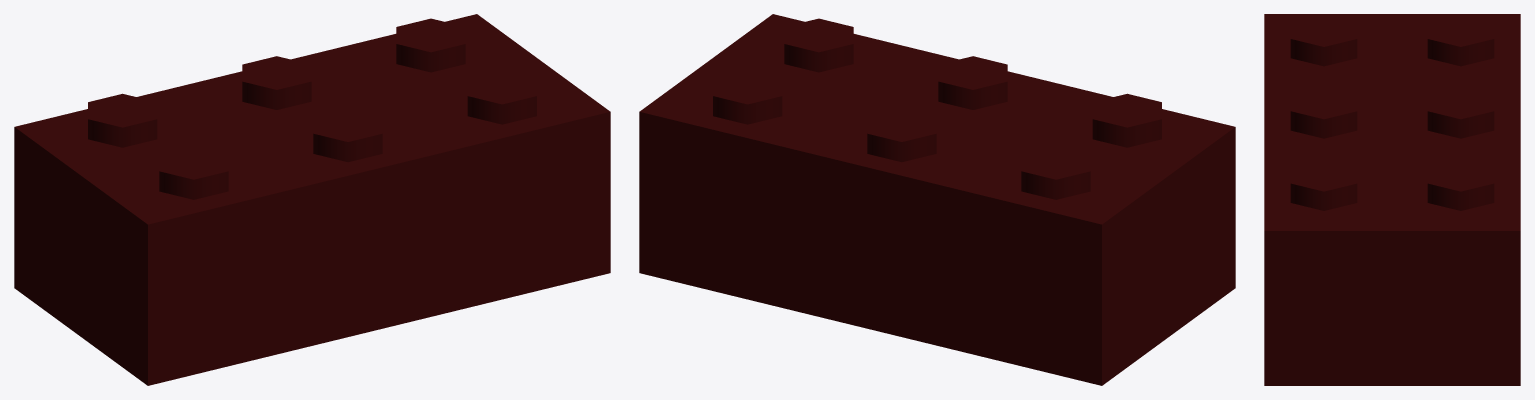
File: LowPolyBrick.fbx
The picture shows the model from 3 angles, left to right: view 1: azimuth 30°, elevation 25°; view 2: azimuth 150°, elevation 25°; view 3: azimuth 270°, elevation 25°; orthographic projection. The views are drawn at different scales.
Visible parts, largest first — view 1: Box001; view 2: Box001; view 3: Box001.
Boxes of the visible parts, x1,y1,x2,y2 form: Box001: (14, 14, 610, 385); Box001: (639, 14, 1235, 385); Box001: (1264, 14, 1520, 385).
Bounding box in the file's own units: 30 × 15 × 11.25.
